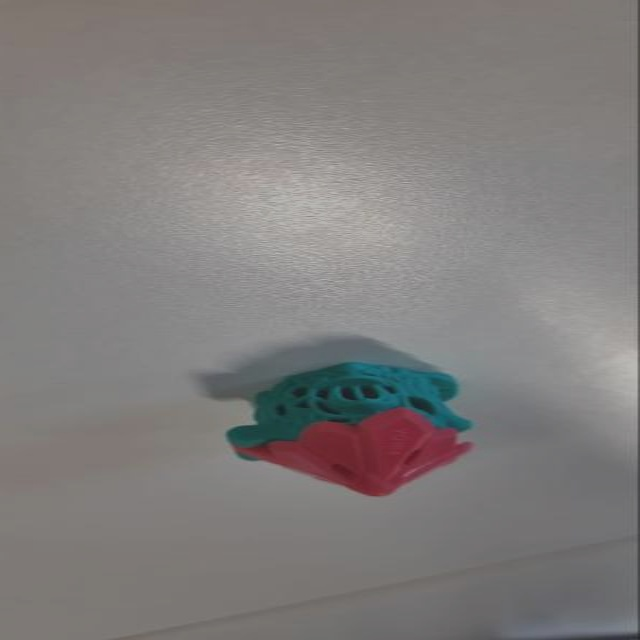House: (176, 331, 484, 507)
